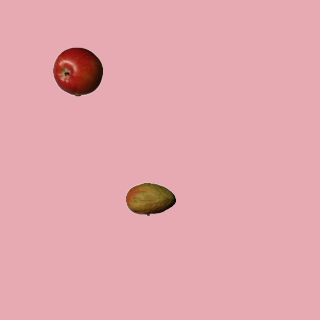Apple Braeburn: (52, 46, 102, 96)
Papaya: (125, 174, 175, 224)
